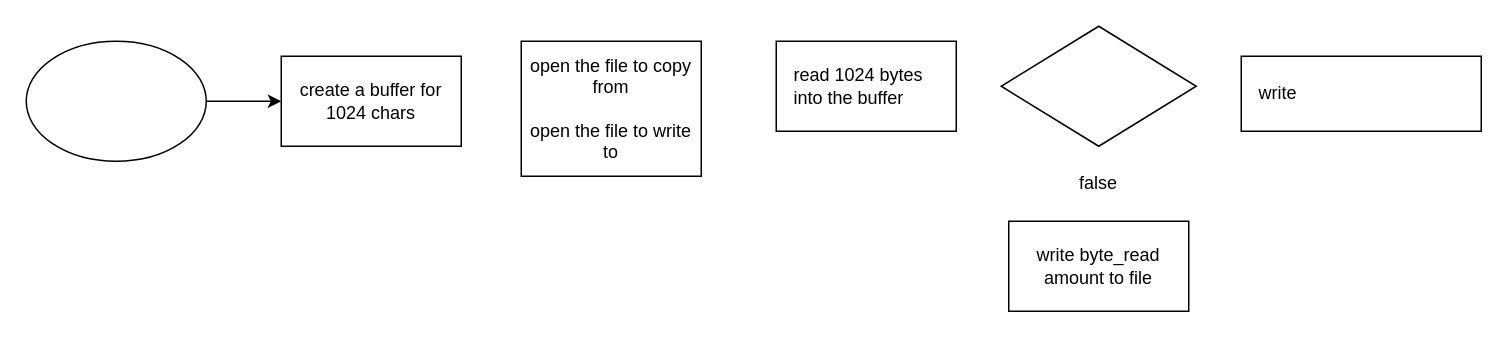
Image size: 1508x338. Some labels were removed from this diagram. The shapes that lost their labels are listed below. From the top down, each one's box as (x1, y1, x2, y2) in pixels, then its label:
(25, 40, 206, 161): start
(1000, 25, 1196, 146): byte_read == 0
